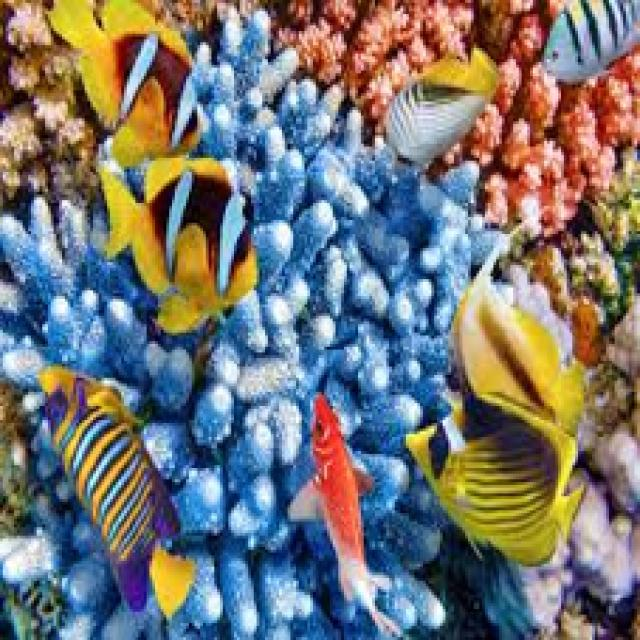Healthy: (1, 12, 472, 638), (325, 1, 638, 235), (1, 1, 100, 204), (370, 466, 441, 624)
